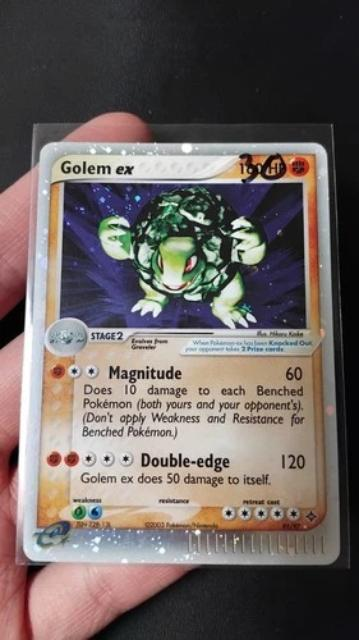Card: (18, 134, 342, 568)
Name: (56, 152, 143, 180)
